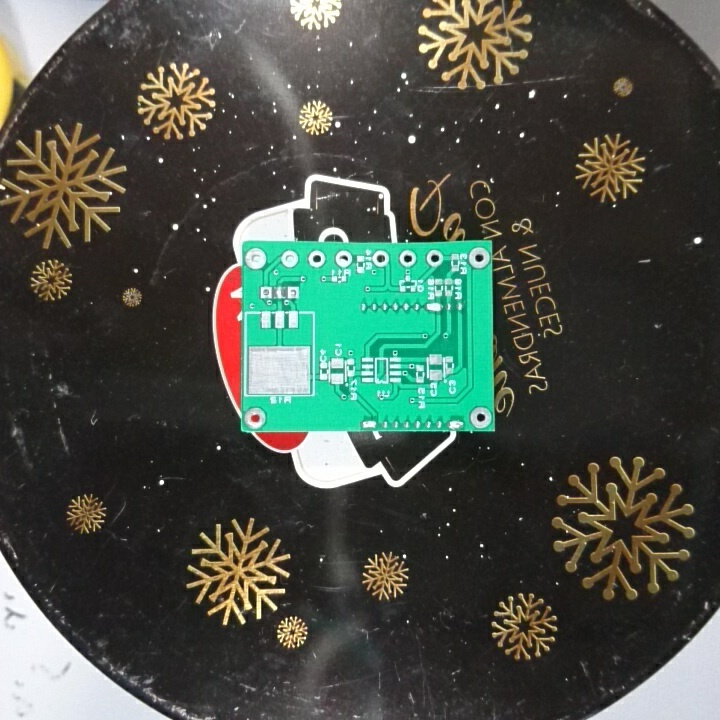F: (243, 403, 269, 430), (469, 405, 493, 429), (467, 246, 490, 271), (244, 248, 270, 270), (370, 248, 390, 271), (333, 248, 354, 269), (397, 249, 419, 269), (280, 249, 301, 269), (305, 249, 325, 269), (424, 248, 443, 268), (286, 284, 302, 303), (259, 283, 273, 302)
P: (421, 298, 445, 322), (359, 415, 379, 432), (445, 417, 465, 433)
